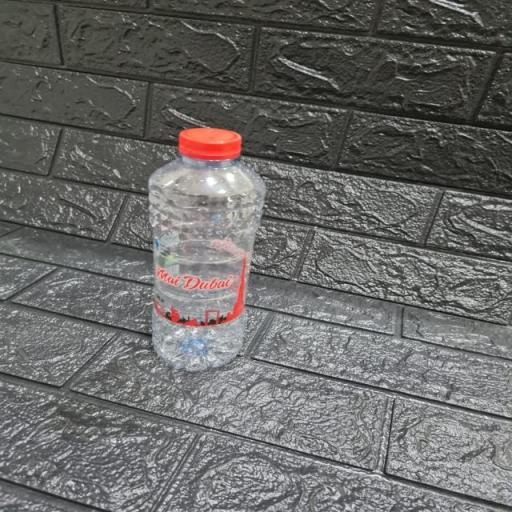plastic: (146, 126, 267, 372)
